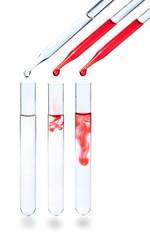Test tube: (46, 78, 65, 219), (19, 75, 38, 214), (73, 73, 90, 218)
